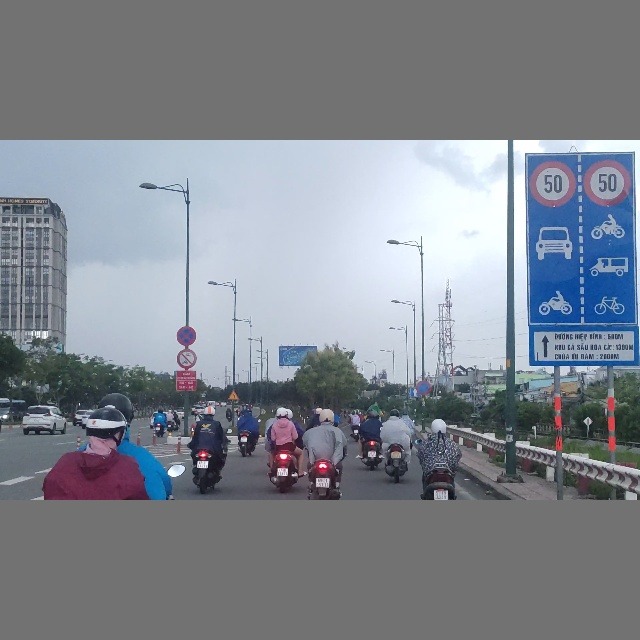I.407a: (410, 387, 419, 397)
P.111: (177, 349, 197, 368)
P.127*50: (526, 155, 577, 208), (581, 157, 632, 207)
P.130: (176, 326, 197, 346)
P.131a: (416, 380, 431, 396)
R.415a: (529, 214, 637, 326)
W.201a: (228, 389, 239, 400)
